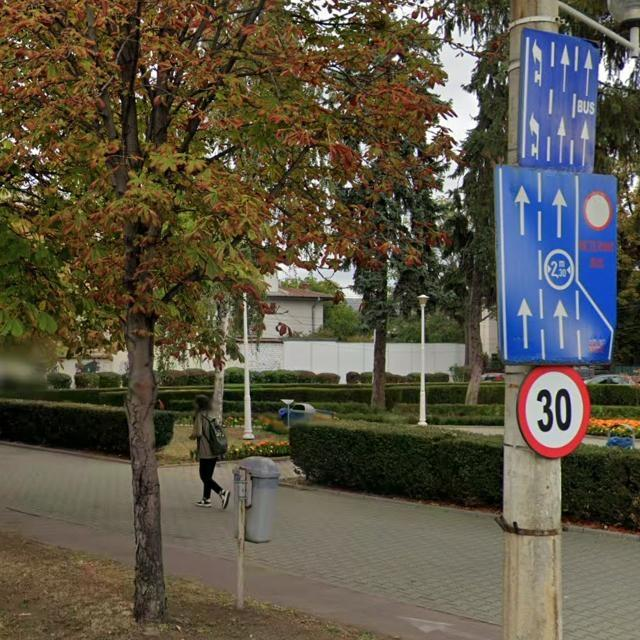forb_speed_over_30: (516, 366, 592, 461)
